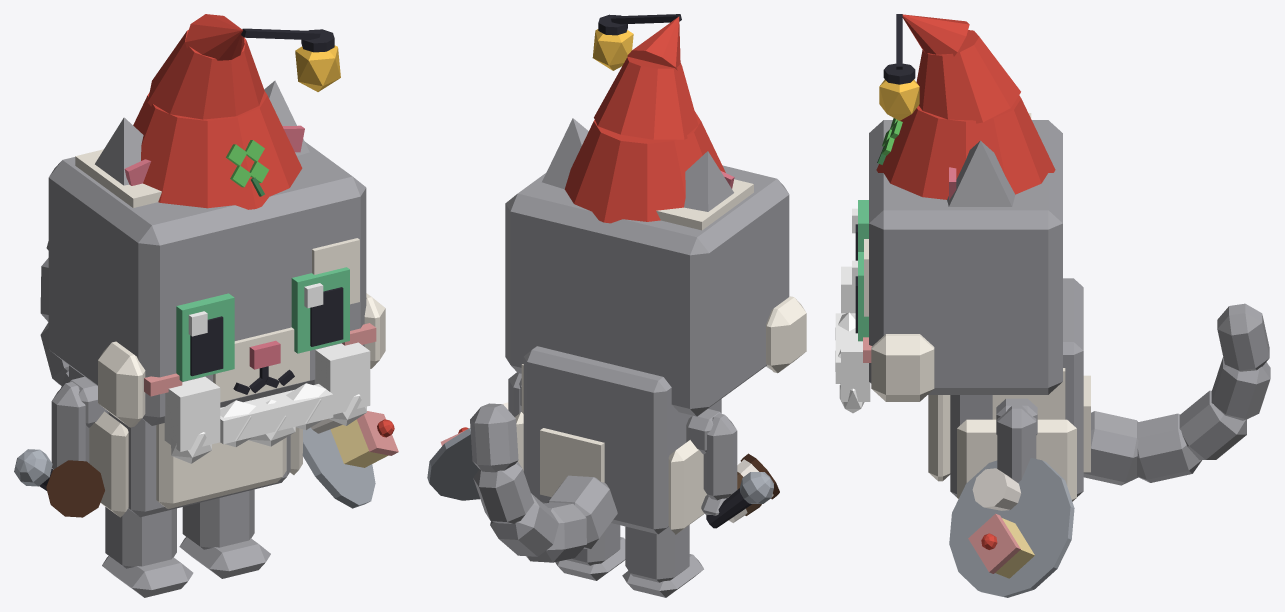
The model's file is CatCafe_Cat_Gnome_Work.fbx.
3 views of the same model, side by side, from view 1: azimuth 30°, elevation 25°; view 2: azimuth 150°, elevation 25°; view 3: azimuth 270°, elevation 25° (orthographic). The views are drawn at different scales.
Visible parts, largest first — view 1: CatCafe_Cat_Gnome_Work_Head, CatCafe_Cat_Gnome_Work_Prop, CatCafe_Cat_Gnome_Work_Body, CatCafe_Cat_Gnome_Work_Prop2, CatCafe_Cat_Gnome_Work_Held_Waiter, CatCafe_Cat_Gnome_Work_LegB2, CatCafe_Cat_Gnome_Work_LegB1, CatCafe_Cat_Gnome_Work_Eye2, CatCafe_Cat_Gnome_Work_Eye1, CatCafe_Cat_Gnome_Work_LegF2, CatCafe_Cat_Gnome_Work_Held_Barista, CatCafe_Cat_Gnome_Work_EarR (+4 smaller); view 2: CatCafe_Cat_Gnome_Work_Head, CatCafe_Cat_Gnome_Work_Body, CatCafe_Cat_Gnome_Work_Prop, CatCafe_Cat_Gnome_Work_Tail, CatCafe_Cat_Gnome_Work_LegB2, CatCafe_Cat_Gnome_Work_LegF2, CatCafe_Cat_Gnome_Work_Held_Waiter, CatCafe_Cat_Gnome_Work_LegB1, CatCafe_Cat_Gnome_Work_EarR, CatCafe_Cat_Gnome_Work_Held_Entertainer, CatCafe_Cat_Gnome_Work_EarL, CatCafe_Cat_Gnome_Work_Glow (+2 smaller); view 3: CatCafe_Cat_Gnome_Work_Head, CatCafe_Cat_Gnome_Work_Prop, CatCafe_Cat_Gnome_Work_Tail, CatCafe_Cat_Gnome_Work_Body, CatCafe_Cat_Gnome_Work_Held_Waiter, CatCafe_Cat_Gnome_Work_Prop2, CatCafe_Cat_Gnome_Work_EarL, CatCafe_Cat_Gnome_Work_LegF1, CatCafe_Cat_Gnome_Work_Glow, CatCafe_Cat_Gnome_Work_Eye1, CatCafe_Cat_Gnome_Work_Eye2.
Part boxes in pixels (x1,y1,x2,y2): CatCafe_Cat_Gnome_Work_Head: (48, 142, 385, 427); CatCafe_Cat_Gnome_Work_Prop: (133, 14, 334, 209); CatCafe_Cat_Gnome_Work_Body: (69, 365, 302, 517); CatCafe_Cat_Gnome_Work_Prop2: (164, 342, 370, 463); CatCafe_Cat_Gnome_Work_Held_Waiter: (302, 411, 398, 508); CatCafe_Cat_Gnome_Work_LegB2: (102, 507, 193, 597); CatCafe_Cat_Gnome_Work_LegB1: (179, 489, 270, 578); CatCafe_Cat_Gnome_Work_Eye2: (176, 293, 234, 381); CatCafe_Cat_Gnome_Work_Eye1: (291, 267, 349, 353); CatCafe_Cat_Gnome_Work_LegF2: (51, 382, 89, 469); CatCafe_Cat_Gnome_Work_Held_Barista: (46, 460, 104, 517); CatCafe_Cat_Gnome_Work_EarR: (95, 117, 150, 185); CatCafe_Cat_Gnome_Work_Head: (505, 165, 806, 416); CatCafe_Cat_Gnome_Work_Body: (515, 346, 721, 534); CatCafe_Cat_Gnome_Work_Prop: (564, 14, 725, 223); CatCafe_Cat_Gnome_Work_Tail: (470, 403, 617, 562); CatCafe_Cat_Gnome_Work_LegB2: (622, 525, 703, 597); CatCafe_Cat_Gnome_Work_LegF2: (701, 413, 737, 515); CatCafe_Cat_Gnome_Work_Held_Waiter: (427, 402, 508, 500); CatCafe_Cat_Gnome_Work_LegB1: (555, 523, 625, 580); CatCafe_Cat_Gnome_Work_EarR: (684, 151, 734, 211); CatCafe_Cat_Gnome_Work_Held_Entertainer: (706, 472, 773, 528); CatCafe_Cat_Gnome_Work_EarL: (542, 118, 588, 189); CatCafe_Cat_Gnome_Work_Glow: (592, 29, 633, 70); CatCafe_Cat_Gnome_Work_Head: (863, 113, 1062, 401); CatCafe_Cat_Gnome_Work_Prop: (876, 14, 1055, 199); CatCafe_Cat_Gnome_Work_Tail: (1083, 303, 1270, 485); CatCafe_Cat_Gnome_Work_Body: (928, 278, 1090, 501); CatCafe_Cat_Gnome_Work_Held_Waiter: (949, 458, 1074, 597); CatCafe_Cat_Gnome_Work_Prop2: (835, 266, 870, 413); CatCafe_Cat_Gnome_Work_EarL: (947, 140, 1015, 206); CatCafe_Cat_Gnome_Work_LegF1: (997, 405, 1036, 482); CatCafe_Cat_Gnome_Work_Glow: (879, 79, 919, 120); CatCafe_Cat_Gnome_Work_Eye1: (852, 252, 868, 341); CatCafe_Cat_Gnome_Work_Eye2: (852, 200, 868, 260).
Bounding box in the file's own units: 1.53 × 2.33 × 1.7.
1 material, 1 textured.
